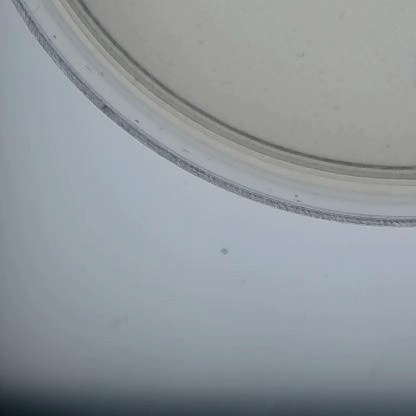worm: (294, 47, 311, 63)
